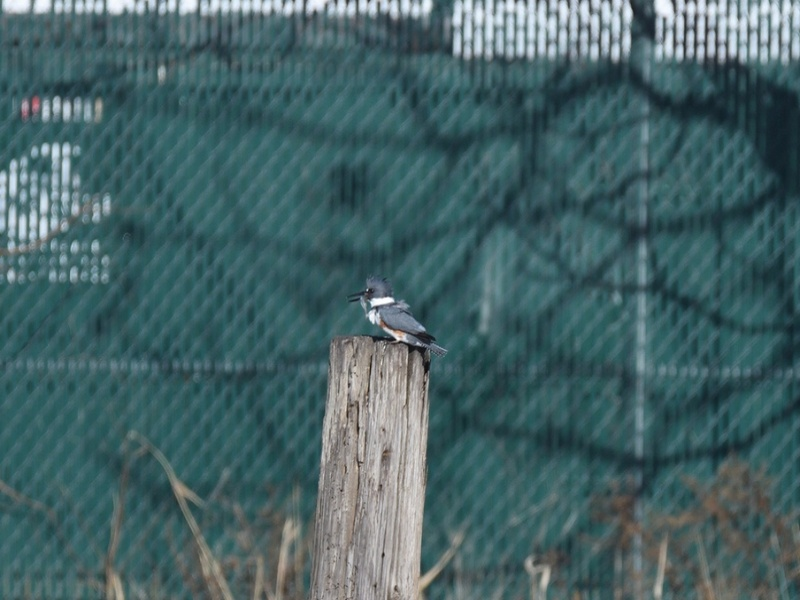kingfisher: (347, 272, 450, 362)
